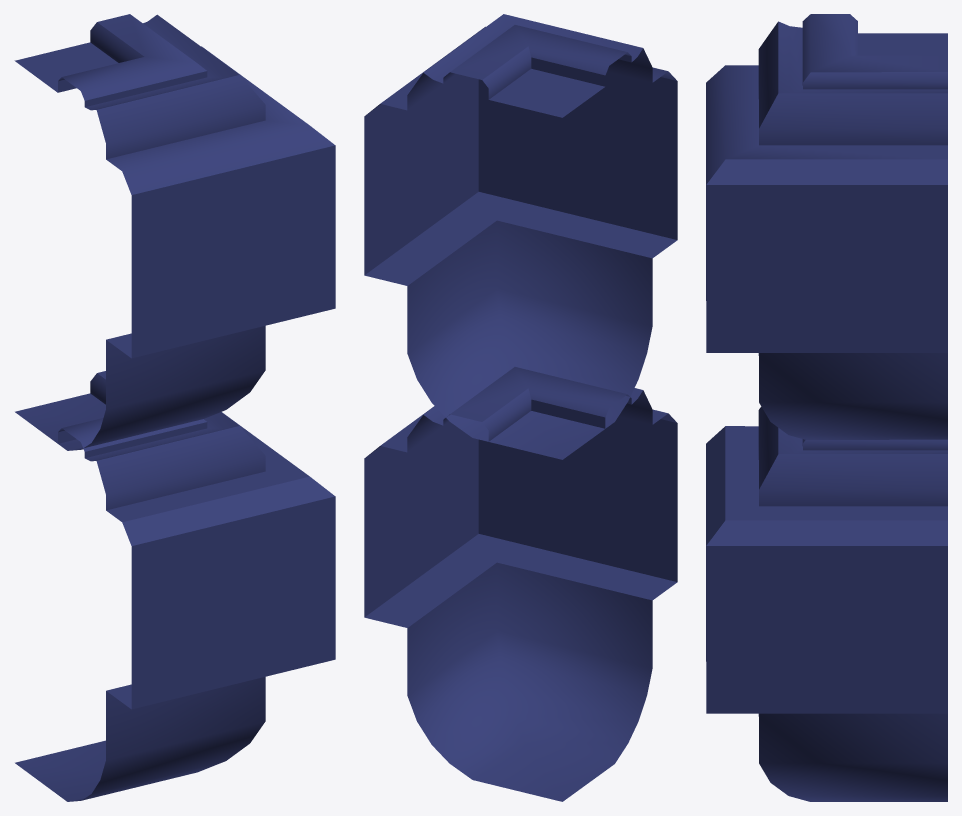
The model's file is wall 1 up corner.FBX.
3 renders of one model, left to right at view 1: azimuth 30°, elevation 25°; view 2: azimuth 150°, elevation 25°; view 3: azimuth 270°, elevation 25°, orthographic. The views are drawn at different scales.
Parts seen in each view (by area): view 1: Object1196324245; view 2: Object1196324245; view 3: Object1196324245.
Part boxes in pixels (x1,y1,x2,y2): Object1196324245: [14, 14, 335, 801]; Object1196324245: [364, 14, 677, 801]; Object1196324245: [706, 14, 947, 801].
Size of the model in its own units: 0.6083 by 2.05 by 0.6071.
